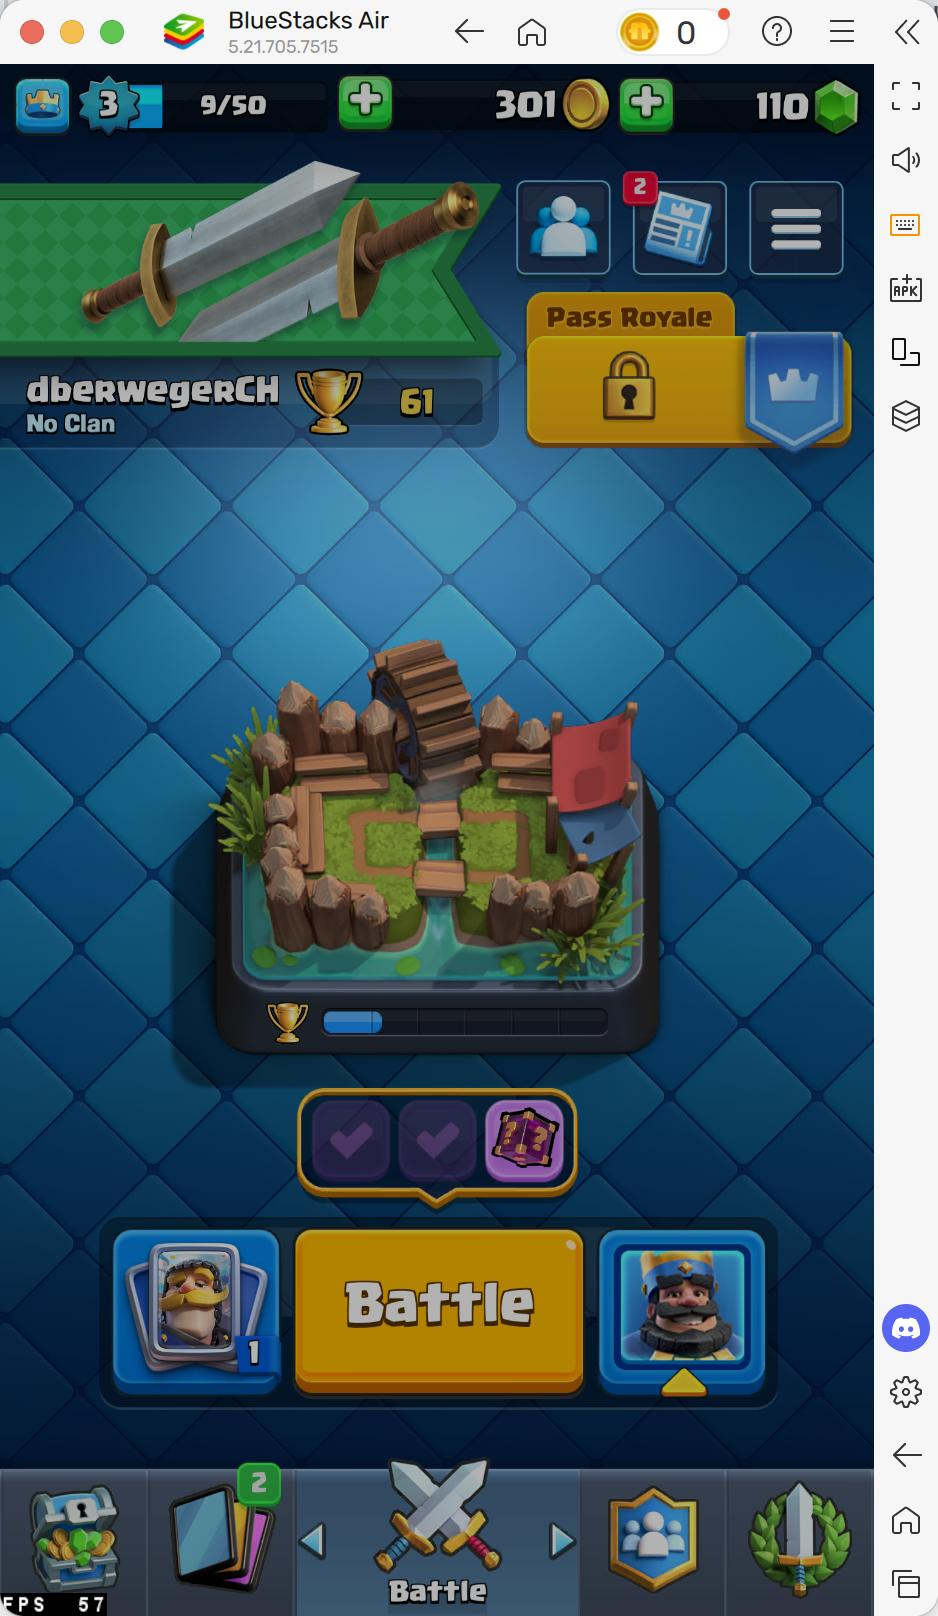Battle: (295, 1230, 583, 1393)
